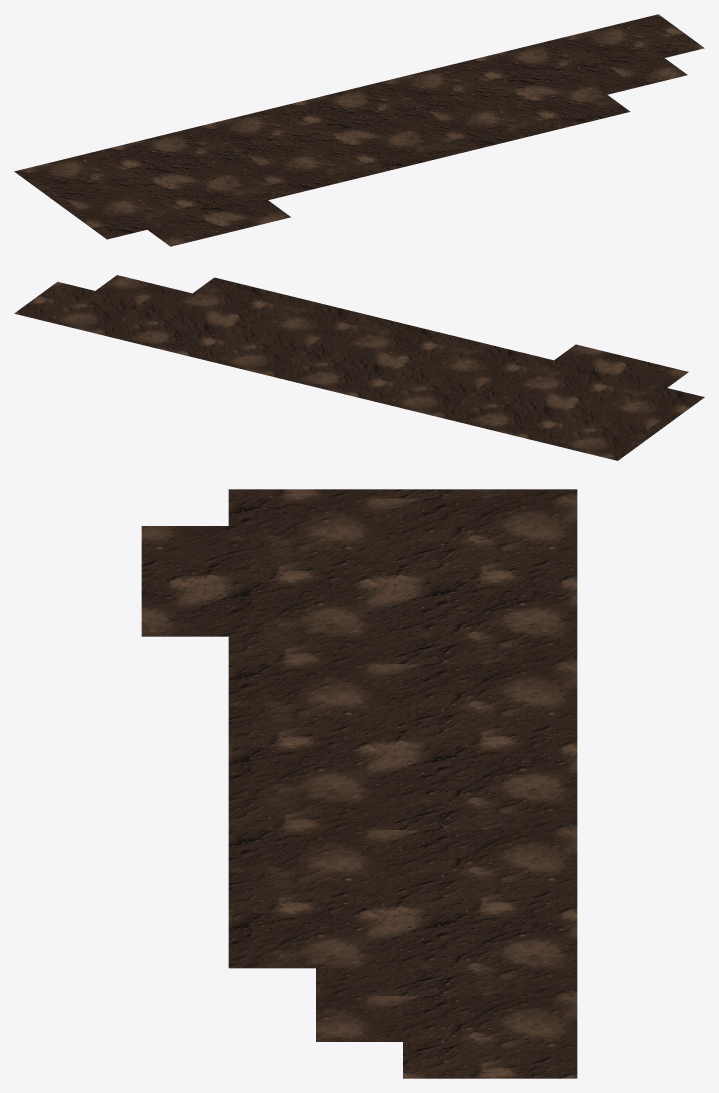
The model's file is floor_1_-4.glb.
The picture shows the model from 3 angles, top to bottom: view 1: azimuth 30°, elevation 25°; view 2: azimuth 150°, elevation 25°; view 3: azimuth 270°, elevation 25°; orthographic projection. The views are drawn at different scales.
Visible parts, largest first — view 1: floor_1_-4; view 2: floor_1_-4; view 3: floor_1_-4.
Part boxes in pixels (bbox=[...]): floor_1_-4: bbox=[14, 14, 704, 246]; floor_1_-4: bbox=[14, 275, 704, 460]; floor_1_-4: bbox=[141, 489, 577, 1078].
Size of the model in its own units: 64 by 0 by 20.
1 material, 1 textured.
